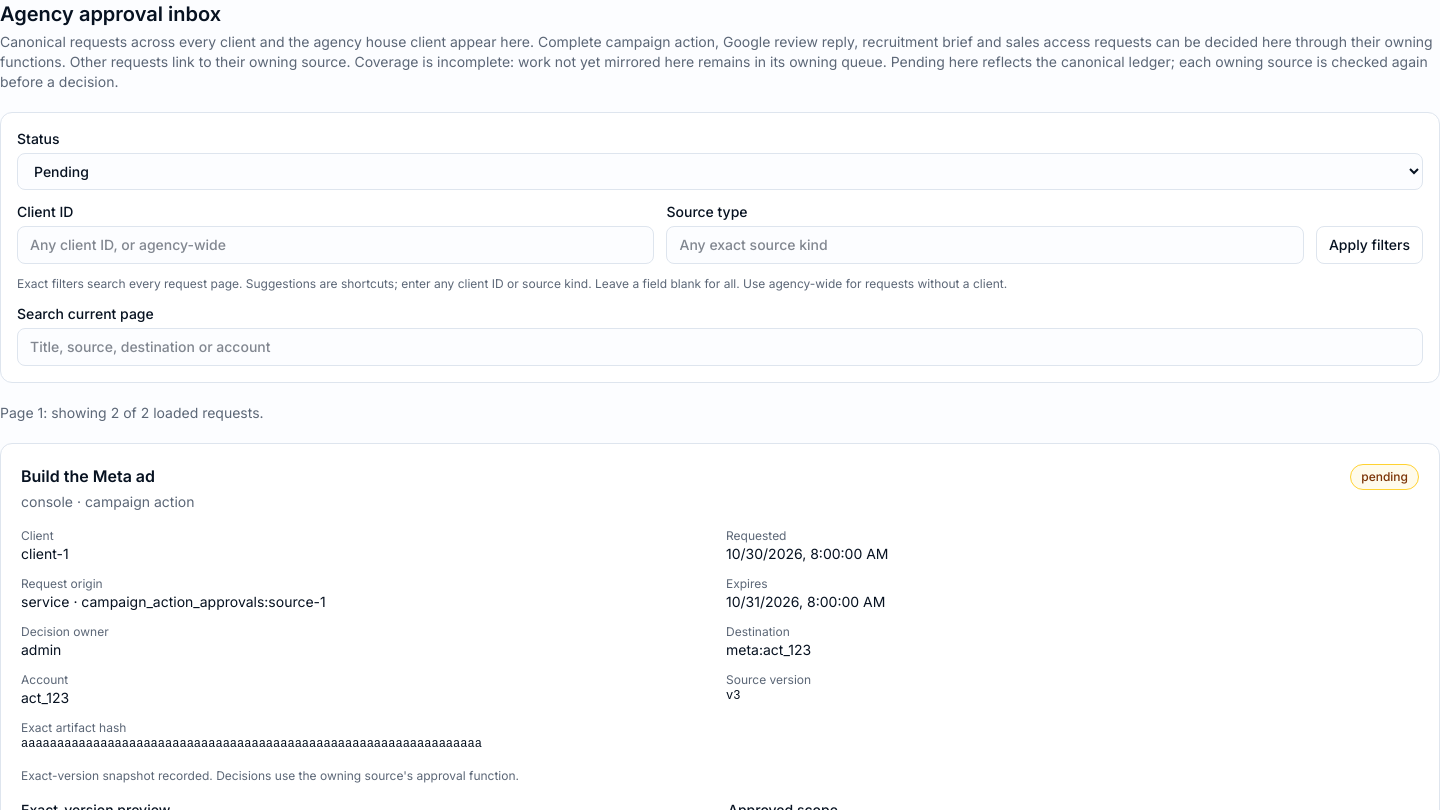
Test case: unified approval inbox › filters agency-wide requests by a null client without inventing a client ID
The image size is (1440, 810).
Type "agency-wide" into the field labelled "Client ID" at [336, 245], box top-left (17, 226), bottom-right (654, 264)
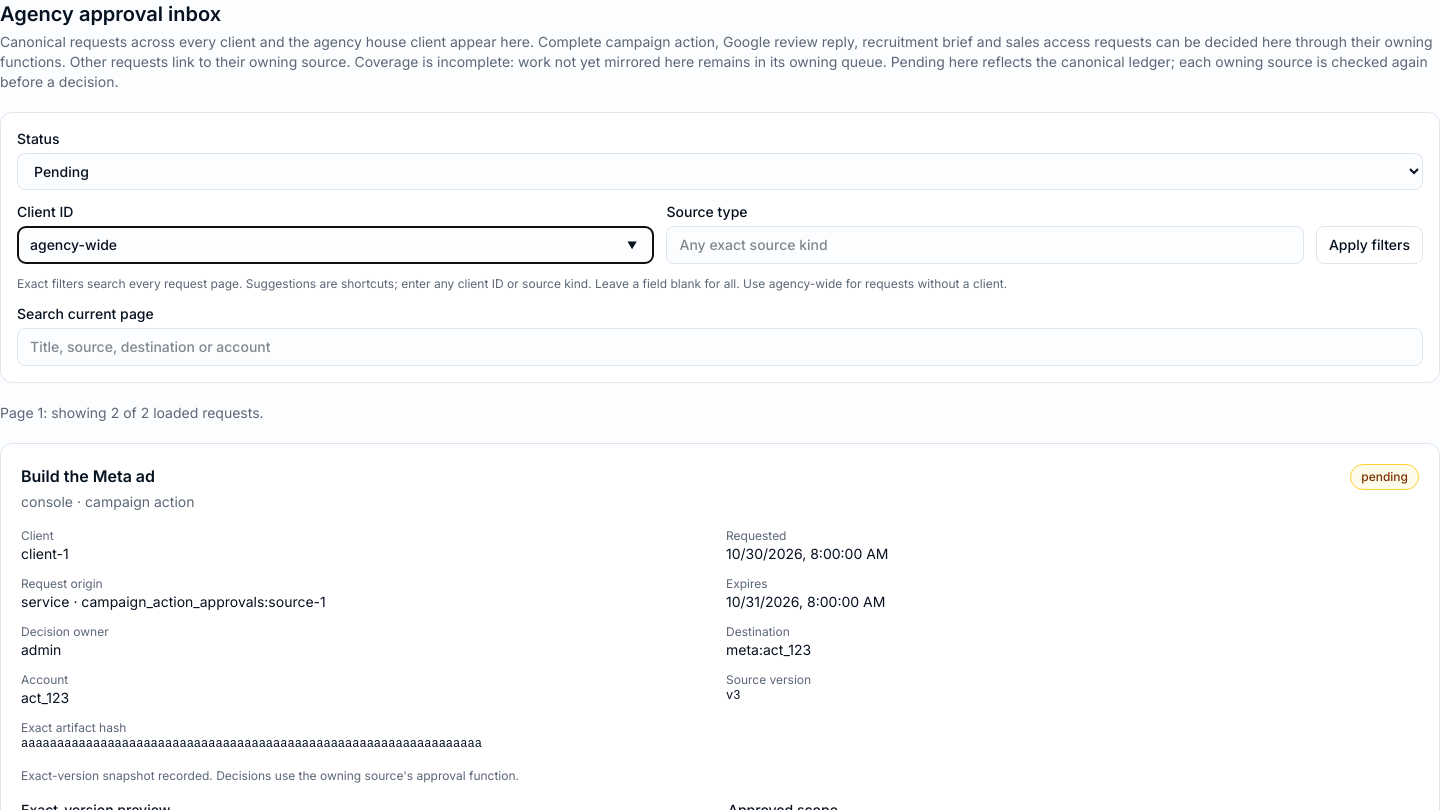
Click the button "Apply filters" at [1369, 245], box top-left (1316, 226), bottom-right (1423, 264)
(page scrolled)
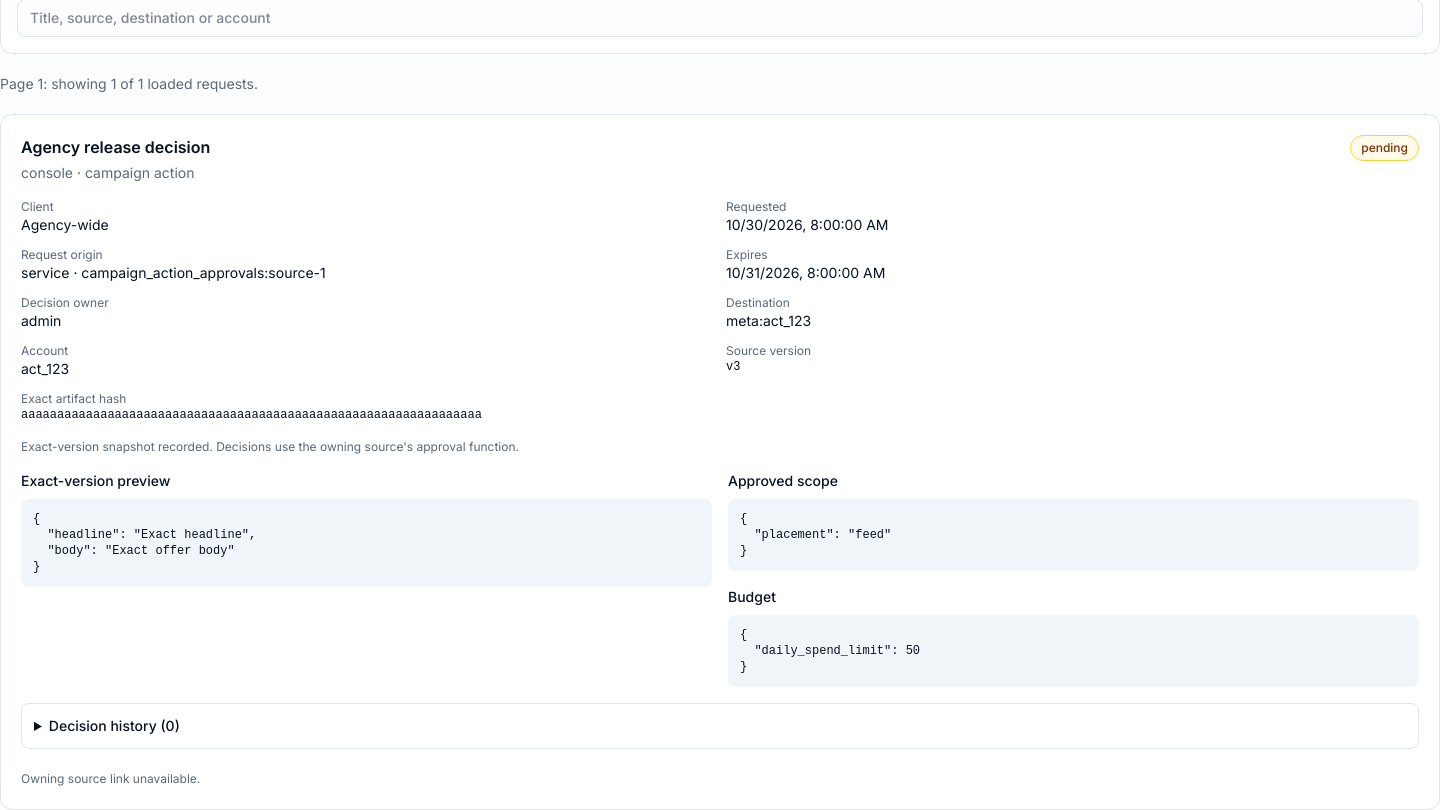
Check: the heading "Build the Meta ad" is gone
